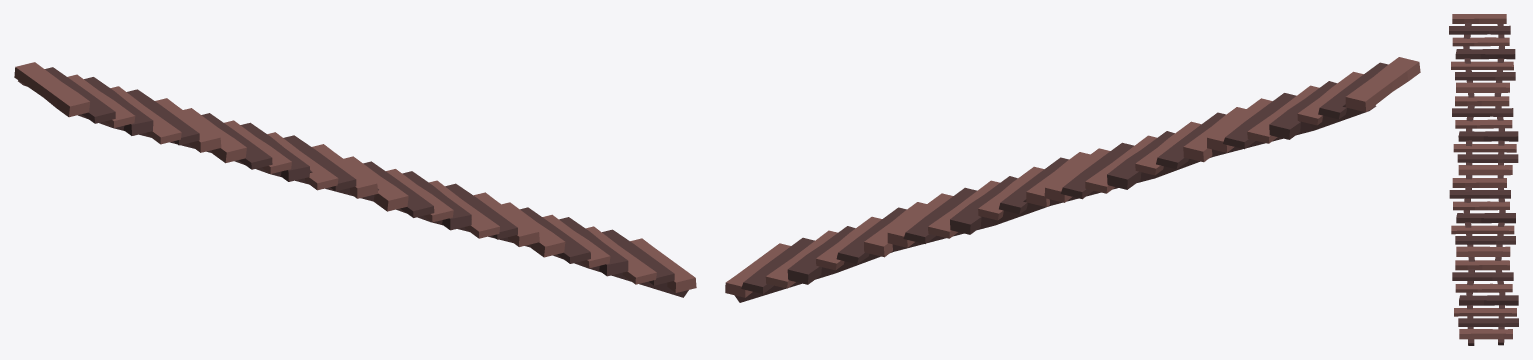
The model's file is DarkRoseWoodStepsLargeRickety1.fbx.
3 views of the same model, side by side, from view 1: azimuth 30°, elevation 25°; view 2: azimuth 150°, elevation 25°; view 3: azimuth 270°, elevation 25° (orthographic). The views are drawn at different scales.
Visible parts, largest first — view 1: DarkRoseWoodStepsLargeRickety1; view 2: DarkRoseWoodStepsLargeRickety1; view 3: DarkRoseWoodStepsLargeRickety1.
Boxes of the visible parts, x1=… form: DarkRoseWoodStepsLargeRickety1: x1=14, y1=62, x2=696, y2=297; DarkRoseWoodStepsLargeRickety1: x1=725, y1=57, x2=1420, y2=302; DarkRoseWoodStepsLargeRickety1: x1=1449, y1=14, x2=1518, y2=345.
Size of the model in its own units: 2582 by 1376 by 488.
2 materials, 2 textured.
